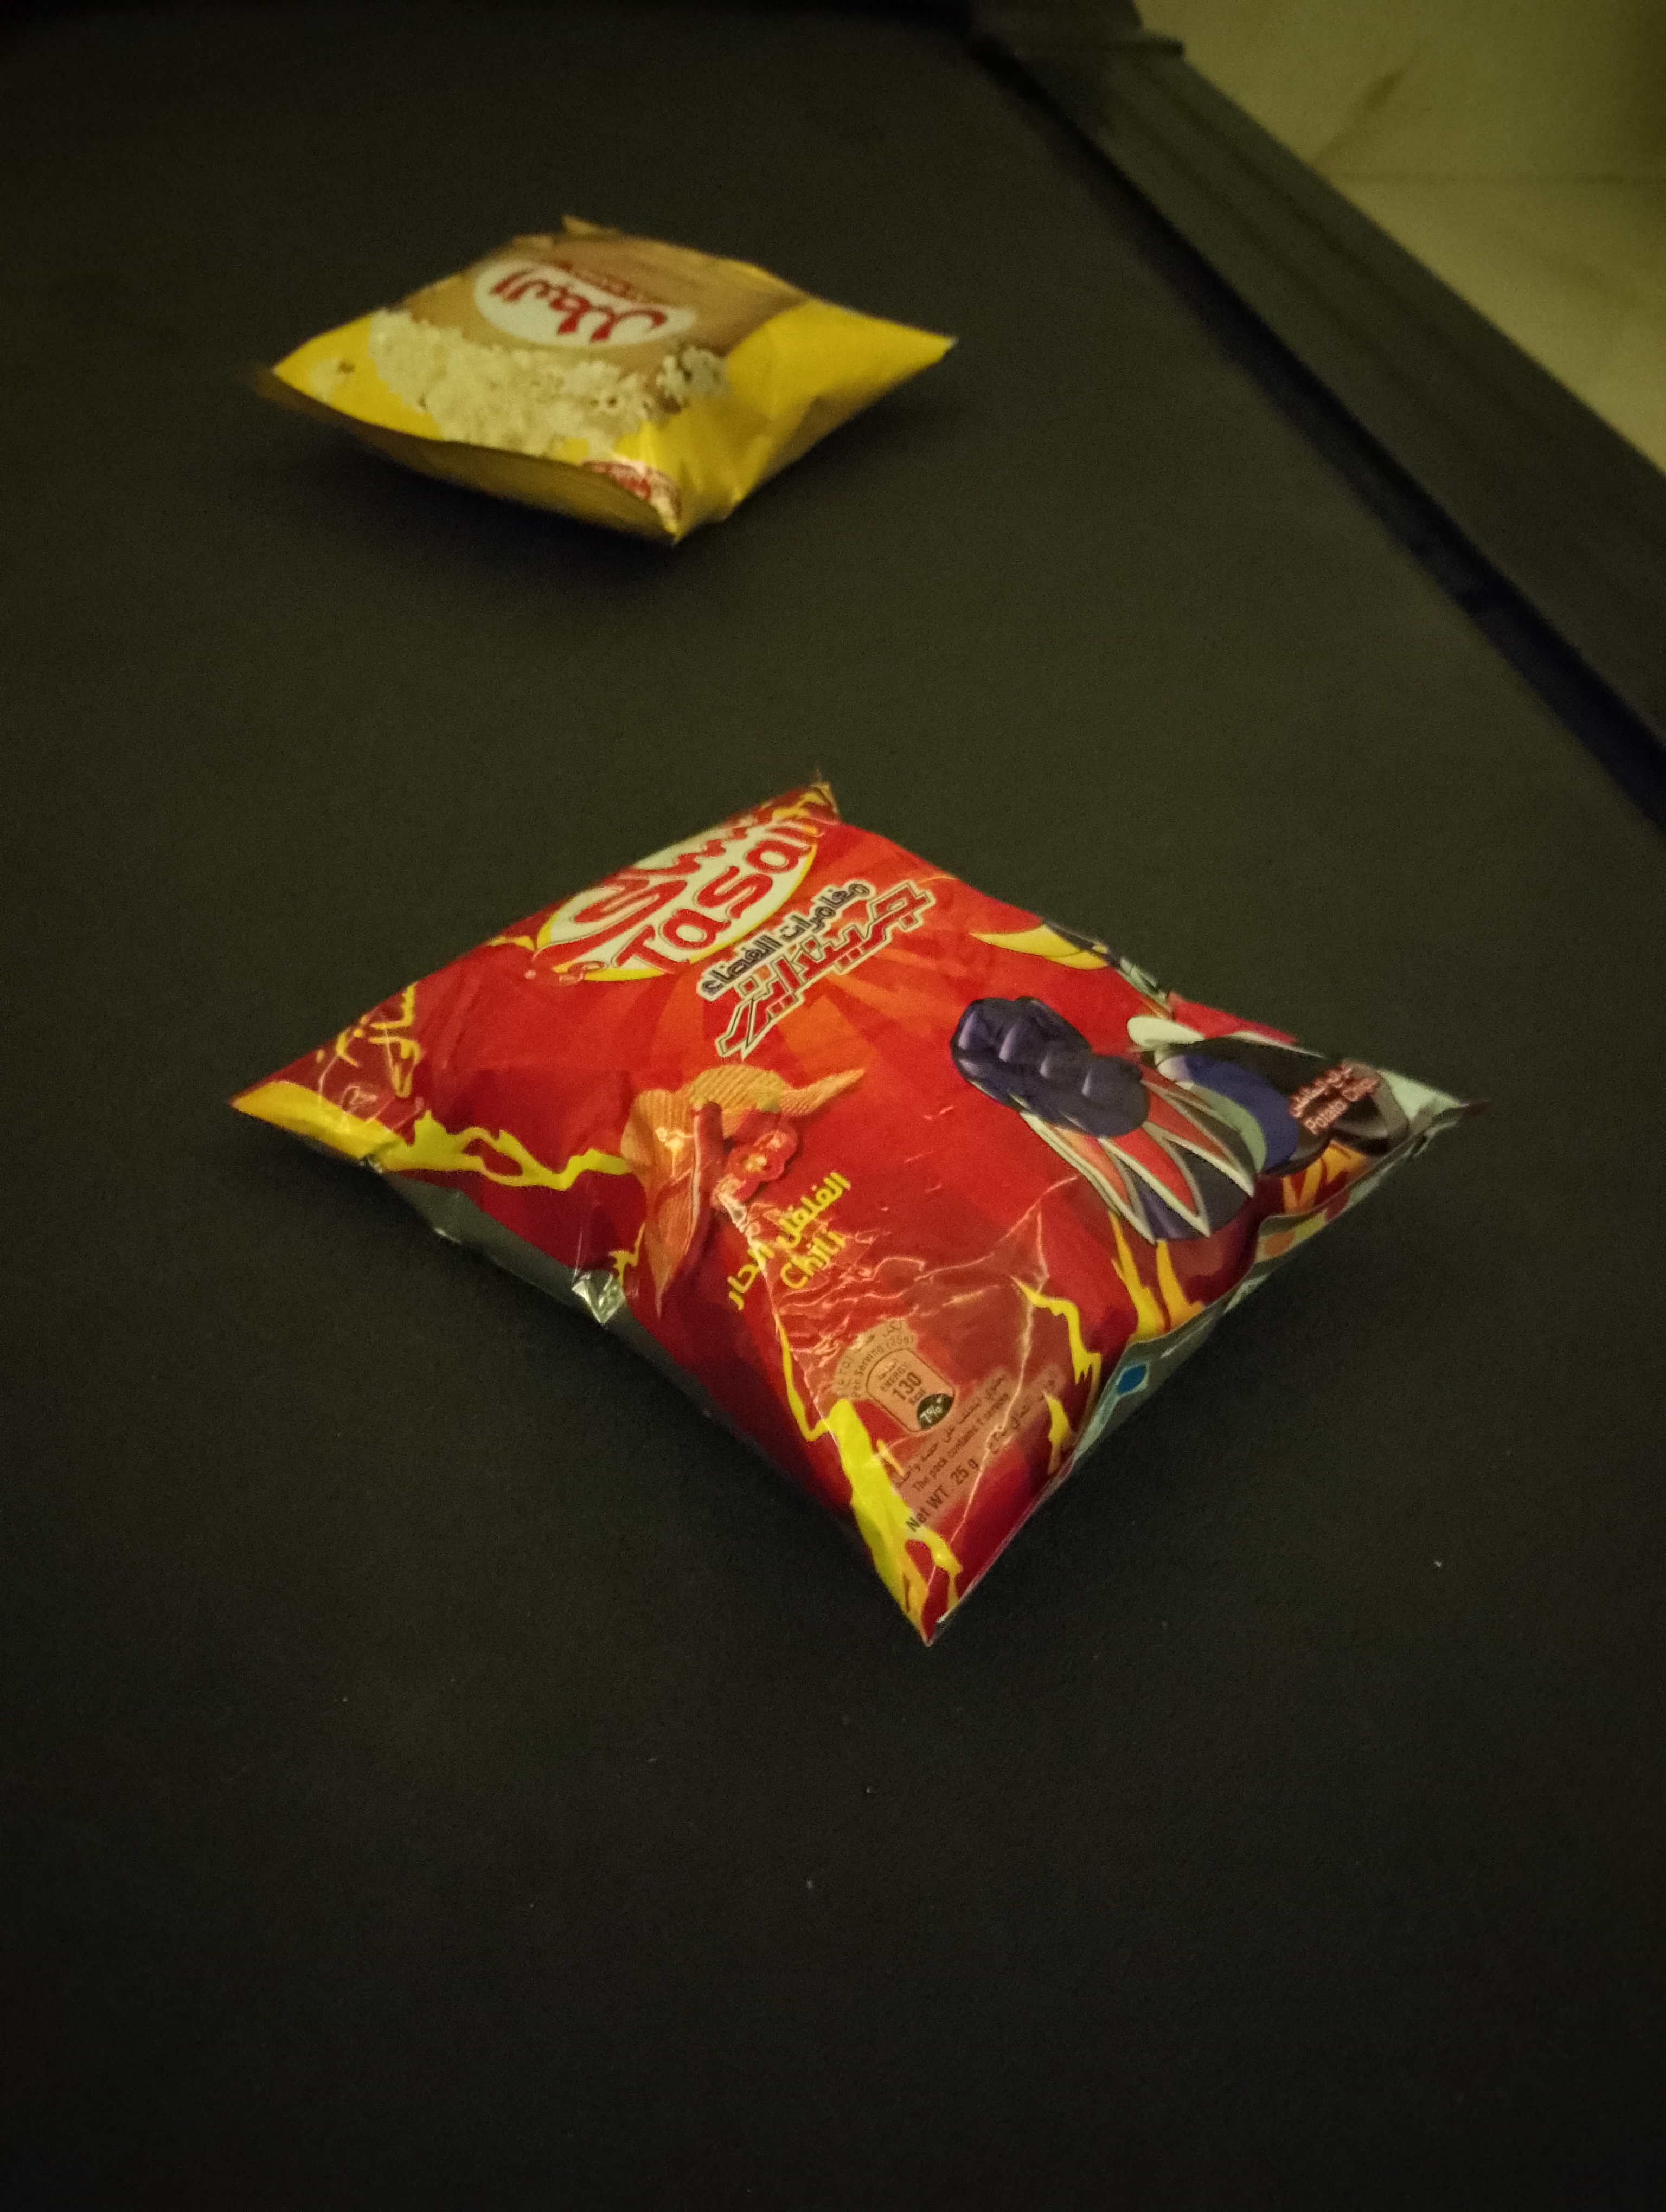albatal_popcorn_butter_flavor: (254, 213, 963, 551)
tasali_hot_chili: (217, 754, 1498, 1651)
